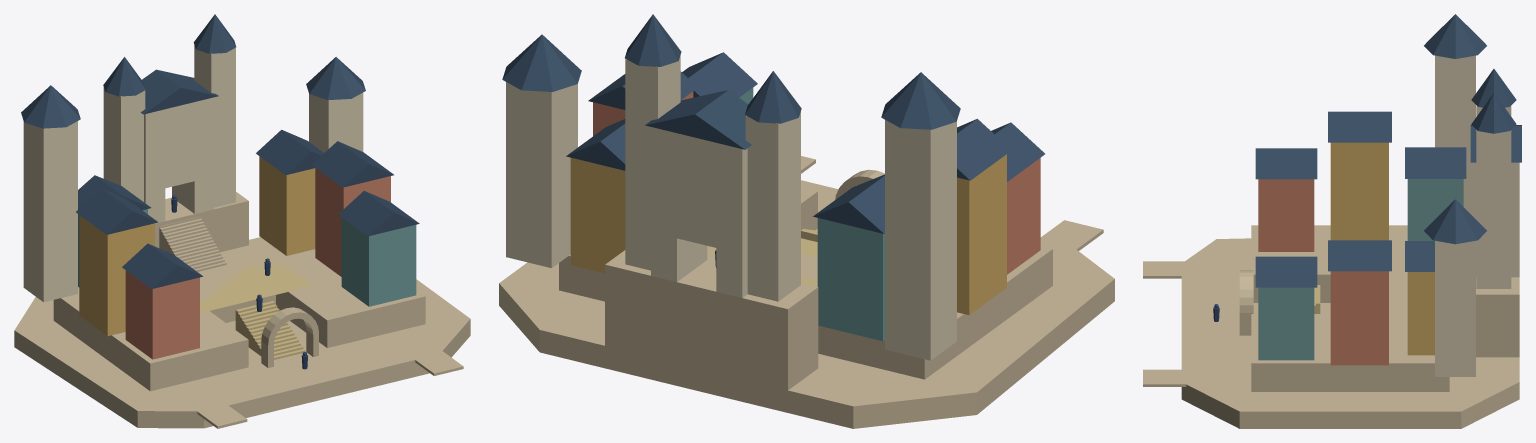
File: junction-layout-v1.glb
The picture shows the model from 3 angles, left to right: view 1: azimuth 30°, elevation 25°; view 2: azimuth 150°, elevation 25°; view 3: azimuth 270°, elevation 25°; orthographic projection. The views are drawn at different scales.
Parts seen in each view (by area): view 1: irregular-quay, left-watchtower, court-right-support, court-left-support, left-mid-yellow, right-front-teal, left-front-coral, right-rear-yellow, keep-tower-right, keep-tower-left, right-mid-coral, central-open-court (+19 smaller); view 2: irregular-quay, keep-bearing-foundation, left-watchtower, right-watchtower, keep-tower-left, left-rear-teal, court-left-support, keep-tower-right, left-mid-yellow, right-rear-yellow, rear-keep-right, rear-keep-left (+16 smaller); view 3: irregular-quay, court-right-support, left-mid-yellow, right-mid-coral, keep-tower-right, right-watchtower, right-front-teal, left-front-coral, left-watchtower, keep-bearing-foundation, court-left-support, left-rear-teal (+16 smaller).
Part boxes in pixels (x1=…): irregular-quay: x1=14, y1=237, x2=470, y2=428; left-watchtower: x1=23, y1=121, x2=77, y2=302; court-right-support: x1=231, y1=241, x2=425, y2=347; court-left-support: x1=53, y1=287, x2=248, y2=391; left-mid-yellow: x1=79, y1=215, x2=154, y2=335; right-front-teal: x1=341, y1=217, x2=416, y2=306; left-front-coral: x1=125, y1=270, x2=199, y2=359; right-rear-yellow: x1=259, y1=156, x2=315, y2=255; keep-tower-right: x1=194, y1=45, x2=235, y2=207; keep-tower-left: x1=103, y1=87, x2=145, y2=201; right-mid-coral: x1=315, y1=168, x2=390, y2=276; central-open-court: x1=200, y1=254, x2=312, y2=312; irregular-quay: x1=499, y1=180, x2=1114, y2=428; keep-bearing-foundation: x1=605, y1=250, x2=818, y2=390; left-watchtower: x1=885, y1=120, x2=956, y2=360; right-watchtower: x1=506, y1=82, x2=577, y2=268; keep-tower-left: x1=745, y1=111, x2=800, y2=301; left-rear-teal: x1=817, y1=218, x2=884, y2=341; court-left-support: x1=818, y1=246, x2=1052, y2=379; keep-tower-right: x1=625, y1=55, x2=680, y2=270; left-mid-yellow: x1=957, y1=154, x2=1006, y2=314; right-rear-yellow: x1=570, y1=157, x2=625, y2=273; rear-keep-right: x1=651, y1=127, x2=707, y2=281; rear-keep-left: x1=716, y1=143, x2=747, y2=297; irregular-quay: x1=1181, y1=238, x2=1519, y2=428; court-right-support: x1=1251, y1=314, x2=1449, y2=391; left-mid-yellow: x1=1330, y1=142, x2=1388, y2=240; right-mid-coral: x1=1330, y1=271, x2=1388, y2=365; keep-tower-right: x1=1476, y1=130, x2=1511, y2=288; right-watchtower: x1=1435, y1=240, x2=1475, y2=376; right-front-teal: x1=1258, y1=287, x2=1314, y2=360; left-front-coral: x1=1258, y1=179, x2=1314, y2=251; left-watchtower: x1=1435, y1=55, x2=1475, y2=215; keep-bearing-foundation: x1=1476, y1=277, x2=1519, y2=357; court-left-support: x1=1251, y1=225, x2=1407, y2=302; left-rear-teal: x1=1407, y1=179, x2=1463, y2=240.
Size of the model in its own units: 36 by 25.59 by 32.5.
